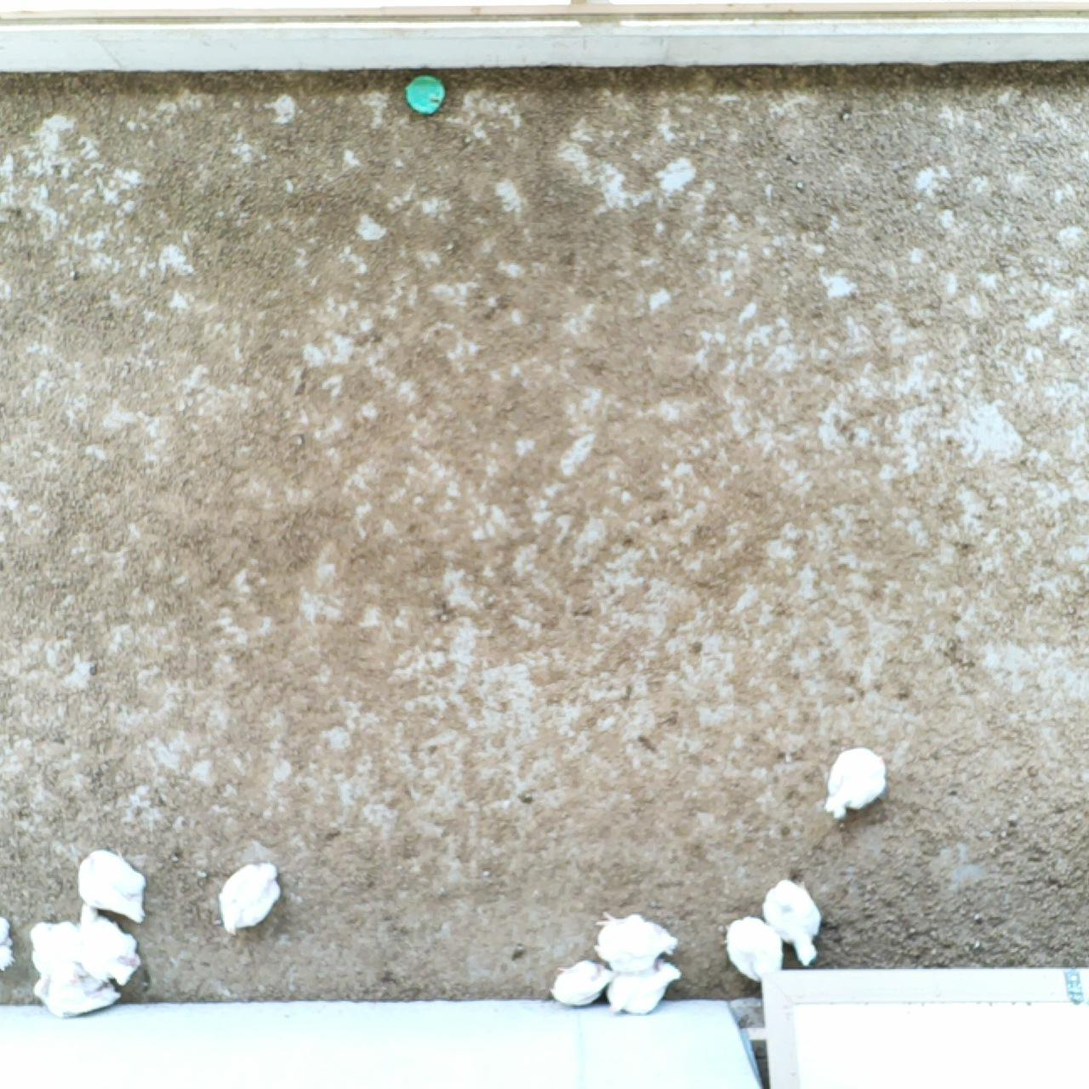chicken: (72, 847, 151, 926), (71, 902, 142, 988), (760, 876, 822, 974), (823, 739, 888, 828), (594, 908, 679, 974), (217, 859, 284, 941), (26, 962, 119, 1020), (724, 912, 785, 990), (609, 961, 683, 1016), (27, 917, 91, 976), (551, 961, 616, 1013), (0, 911, 17, 968)
